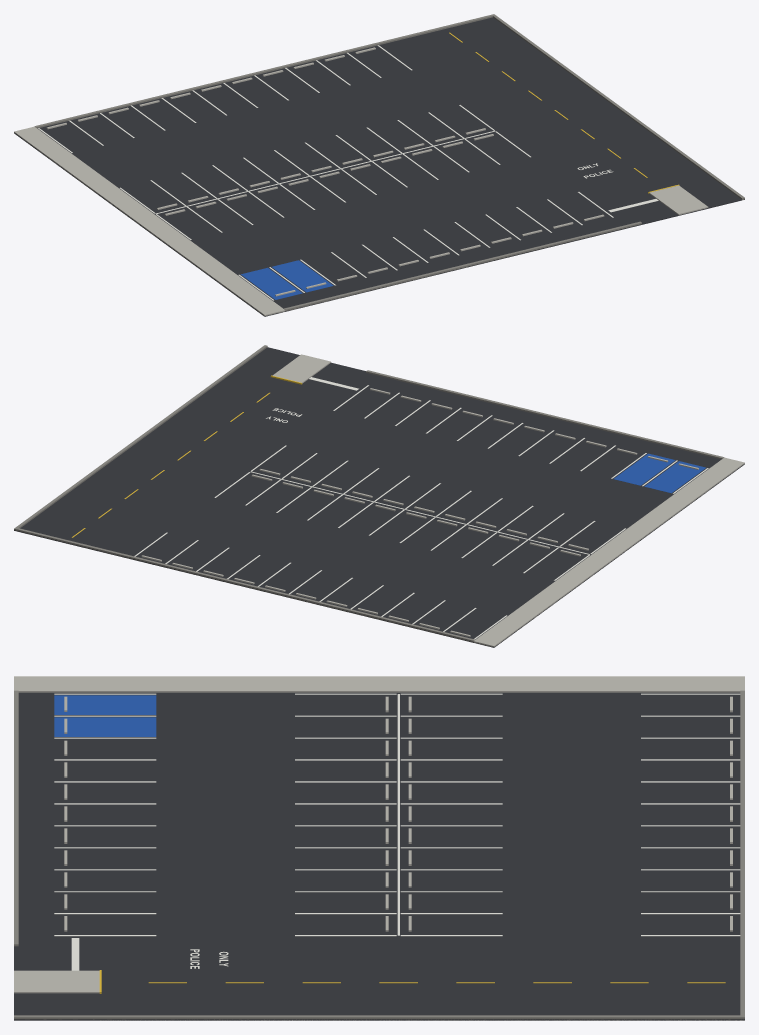
Rendered from PD_ParkingLot.fbx.
3 renders of one model, top to bottom at view 1: azimuth 30°, elevation 25°; view 2: azimuth 150°, elevation 25°; view 3: azimuth 270°, elevation 25°, orthographic. The views are drawn at different scales.
Parts seen in each view (by area): view 1: PD_ParkingLot_Mesh; view 2: PD_ParkingLot_Mesh; view 3: PD_ParkingLot_Mesh.
Boxes of the visible parts, <box> form: PD_ParkingLot_Mesh: <box>14,14,744,316</box>; PD_ParkingLot_Mesh: <box>14,345,744,647</box>; PD_ParkingLot_Mesh: <box>14,676,744,1020</box>.
Size of the model in its own units: 42 by 0.18 by 38.
